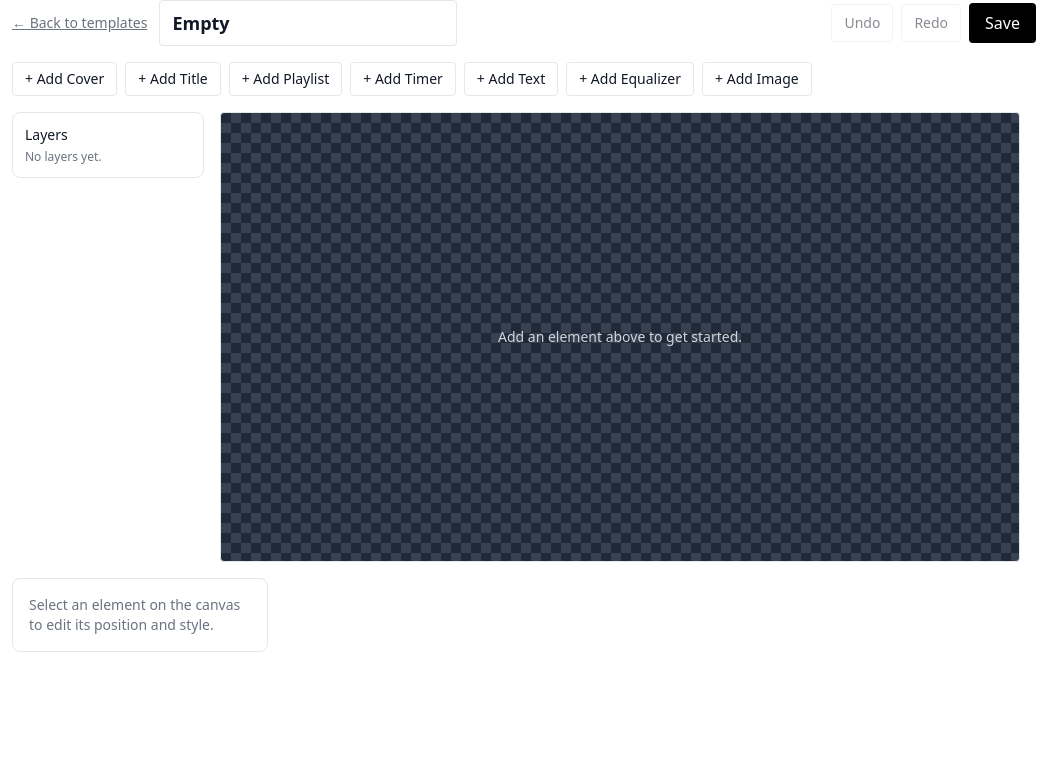
it: TemplateEditor › adding an element selects it and shows the matching fields in the properties panel
Expected: the text "Add an element above to get started." is shown, [498,327,742,346]
Click the button "+ Add Cover".
click(65, 79)  # box [12,62,117,96]
(page scrolled)
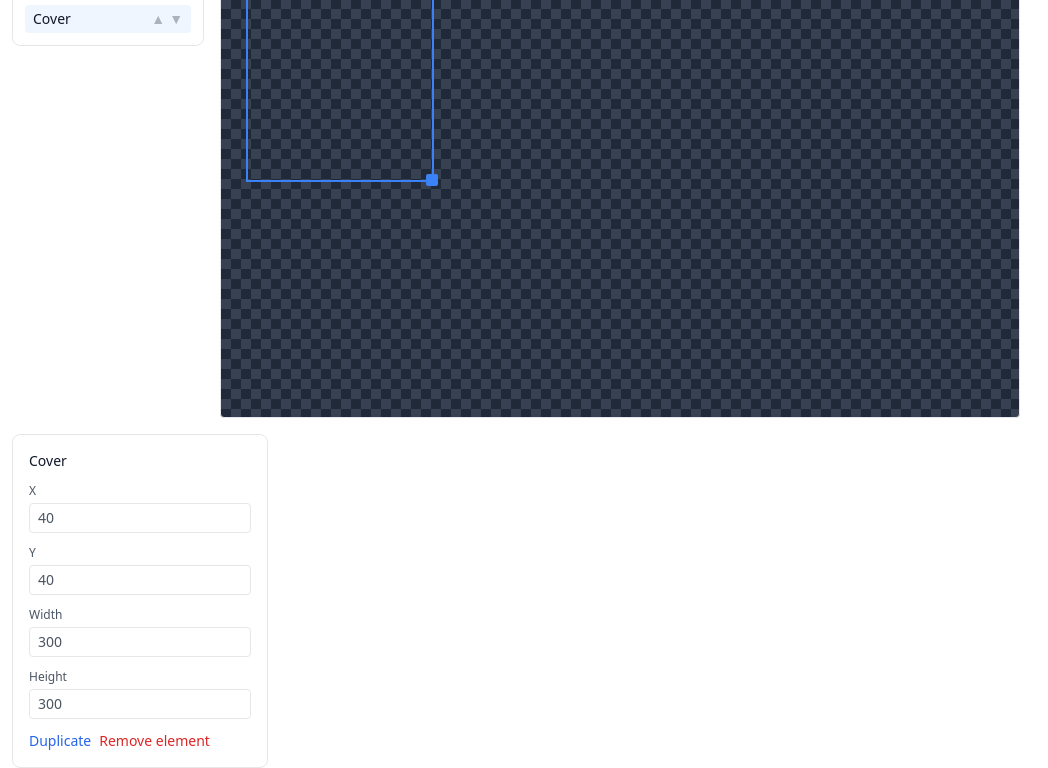
Now the number field labelled "Width" is shown, box [29,627,251,657]
Now the number field labelled "Height" is shown, box [29,689,251,719]
